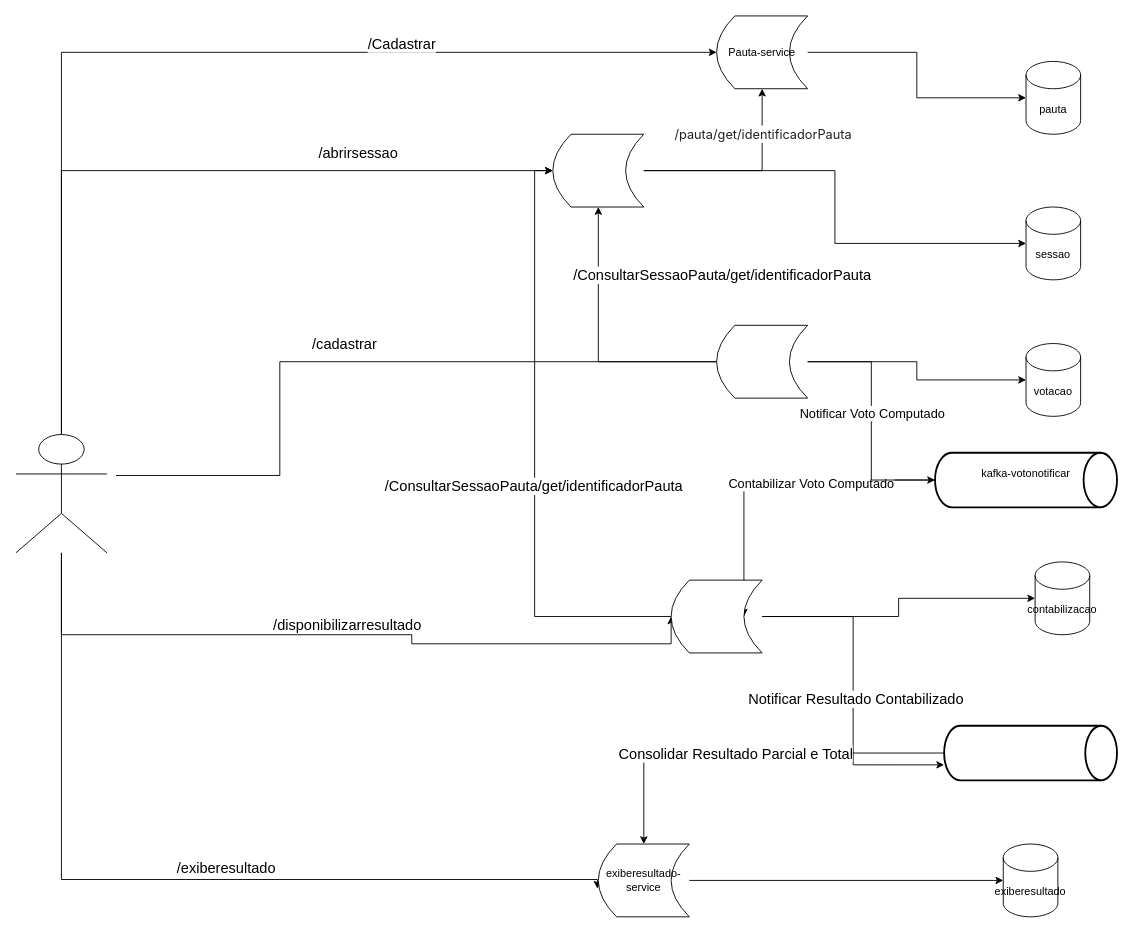
The diagram is 1134 pixels wide and 933 high, and some of its shapes have lost their labels. Here are the shapes that lost their labels. From the top down, the centre of each, then its label:
point 598,170: abrirsessao-service
point 762,361: votacao-service
point 716,616: contabilizacao-service
point 1030,752: resultado
